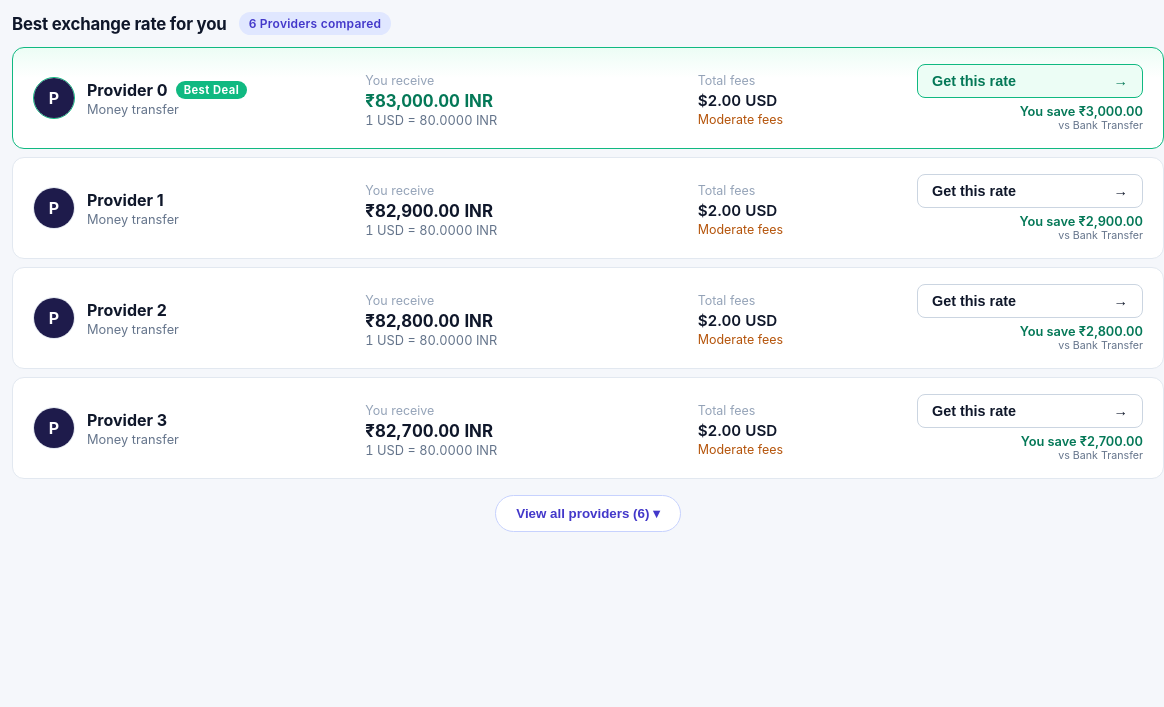
Test: ProviderList › renders only the first 4 providers and expands on click
The width and height of the screenshot is (1164, 707).
Expected: the text "Provider 0" is shown, x1=87 y1=80 x2=168 y2=100
Expected: the text "Provider 3" is shown, x1=87 y1=410 x2=167 y2=430
Click the button "View all providers (6) ▾" at coordinates (588, 514), box x1=495 y1=495 x2=681 y2=532
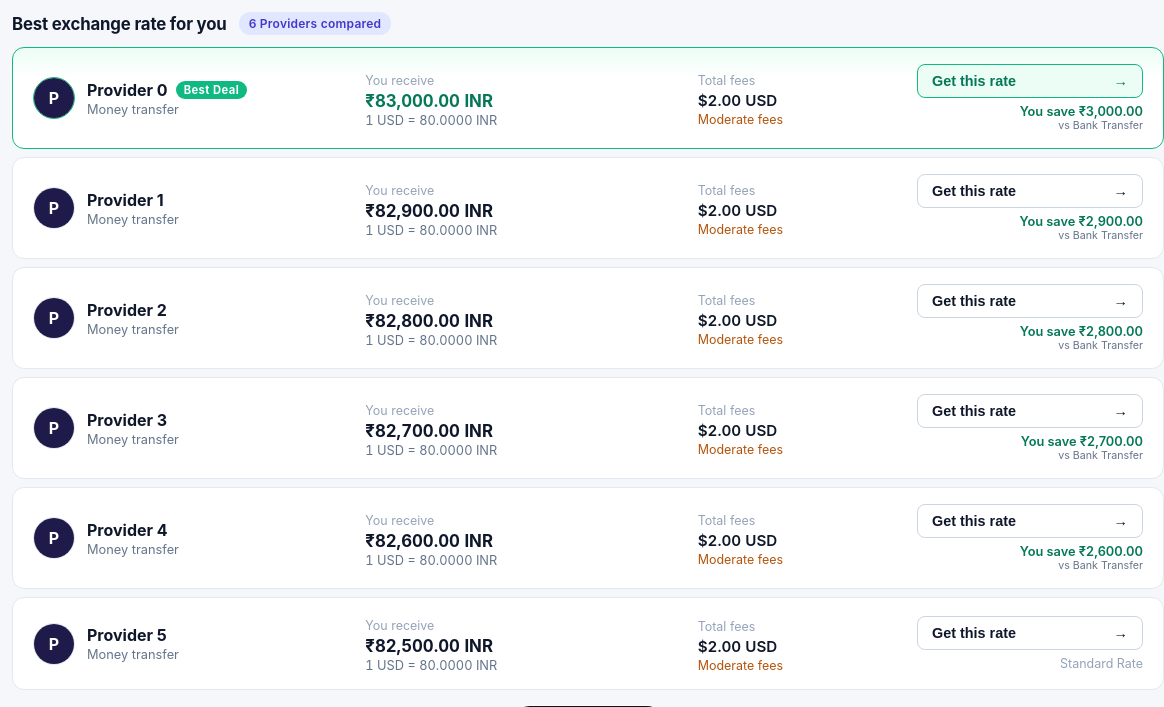
Expected: the text "Provider 4" is shown, x1=87 y1=520 x2=168 y2=540
Expected: the text "Provider 5" is shown, x1=87 y1=625 x2=167 y2=645
